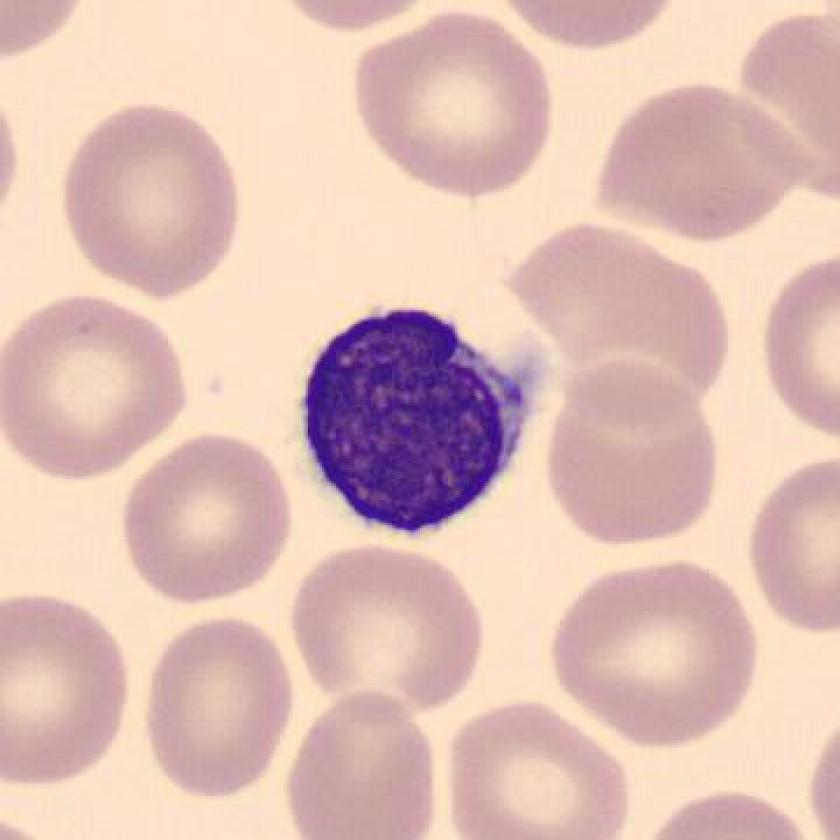lymphocyte: (286, 286, 552, 552)
